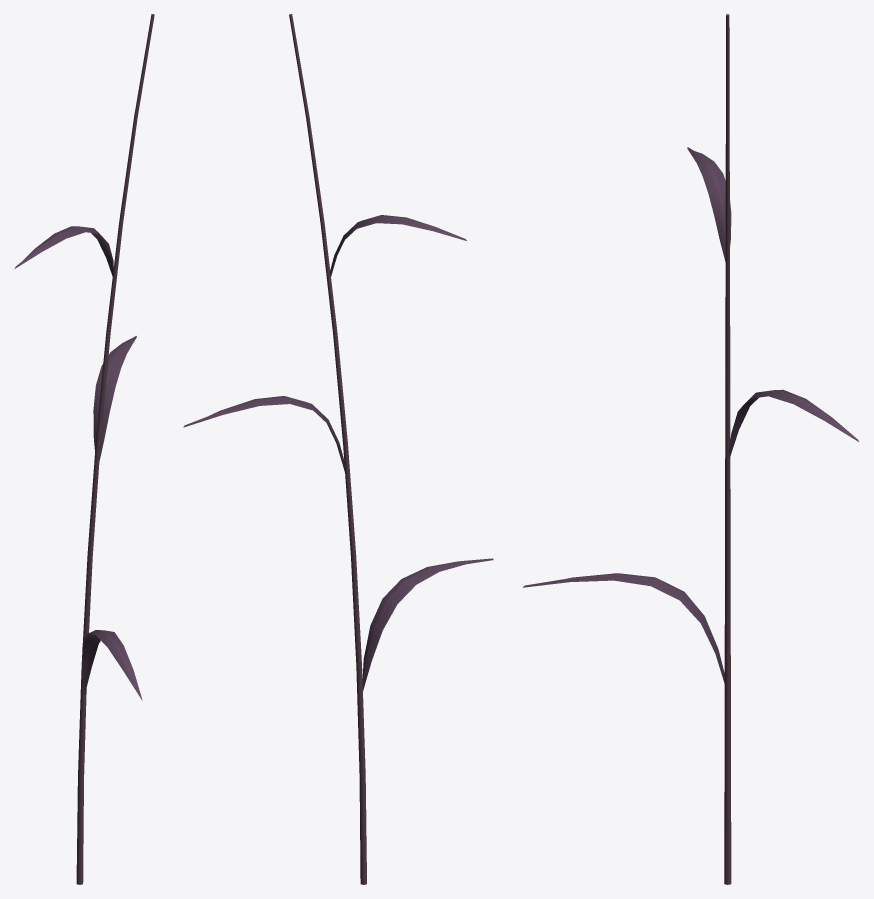
File: single_stem_02.glb
3 renders of one model, left to right at view 1: azimuth 30°, elevation 25°; view 2: azimuth 150°, elevation 25°; view 3: azimuth 270°, elevation 25°, orthographic. The views are drawn at different scales.
Visible parts, largest first — view 1: export; view 2: export; view 3: export.
Part boxes in pixels (x1,y1,x2,y2): export: (14, 14, 154, 884); export: (183, 14, 493, 884); export: (523, 14, 858, 884).
Bounding box in the file's own units: 0.2503 × 1 × 0.3371.
2 materials, 2 textured.
